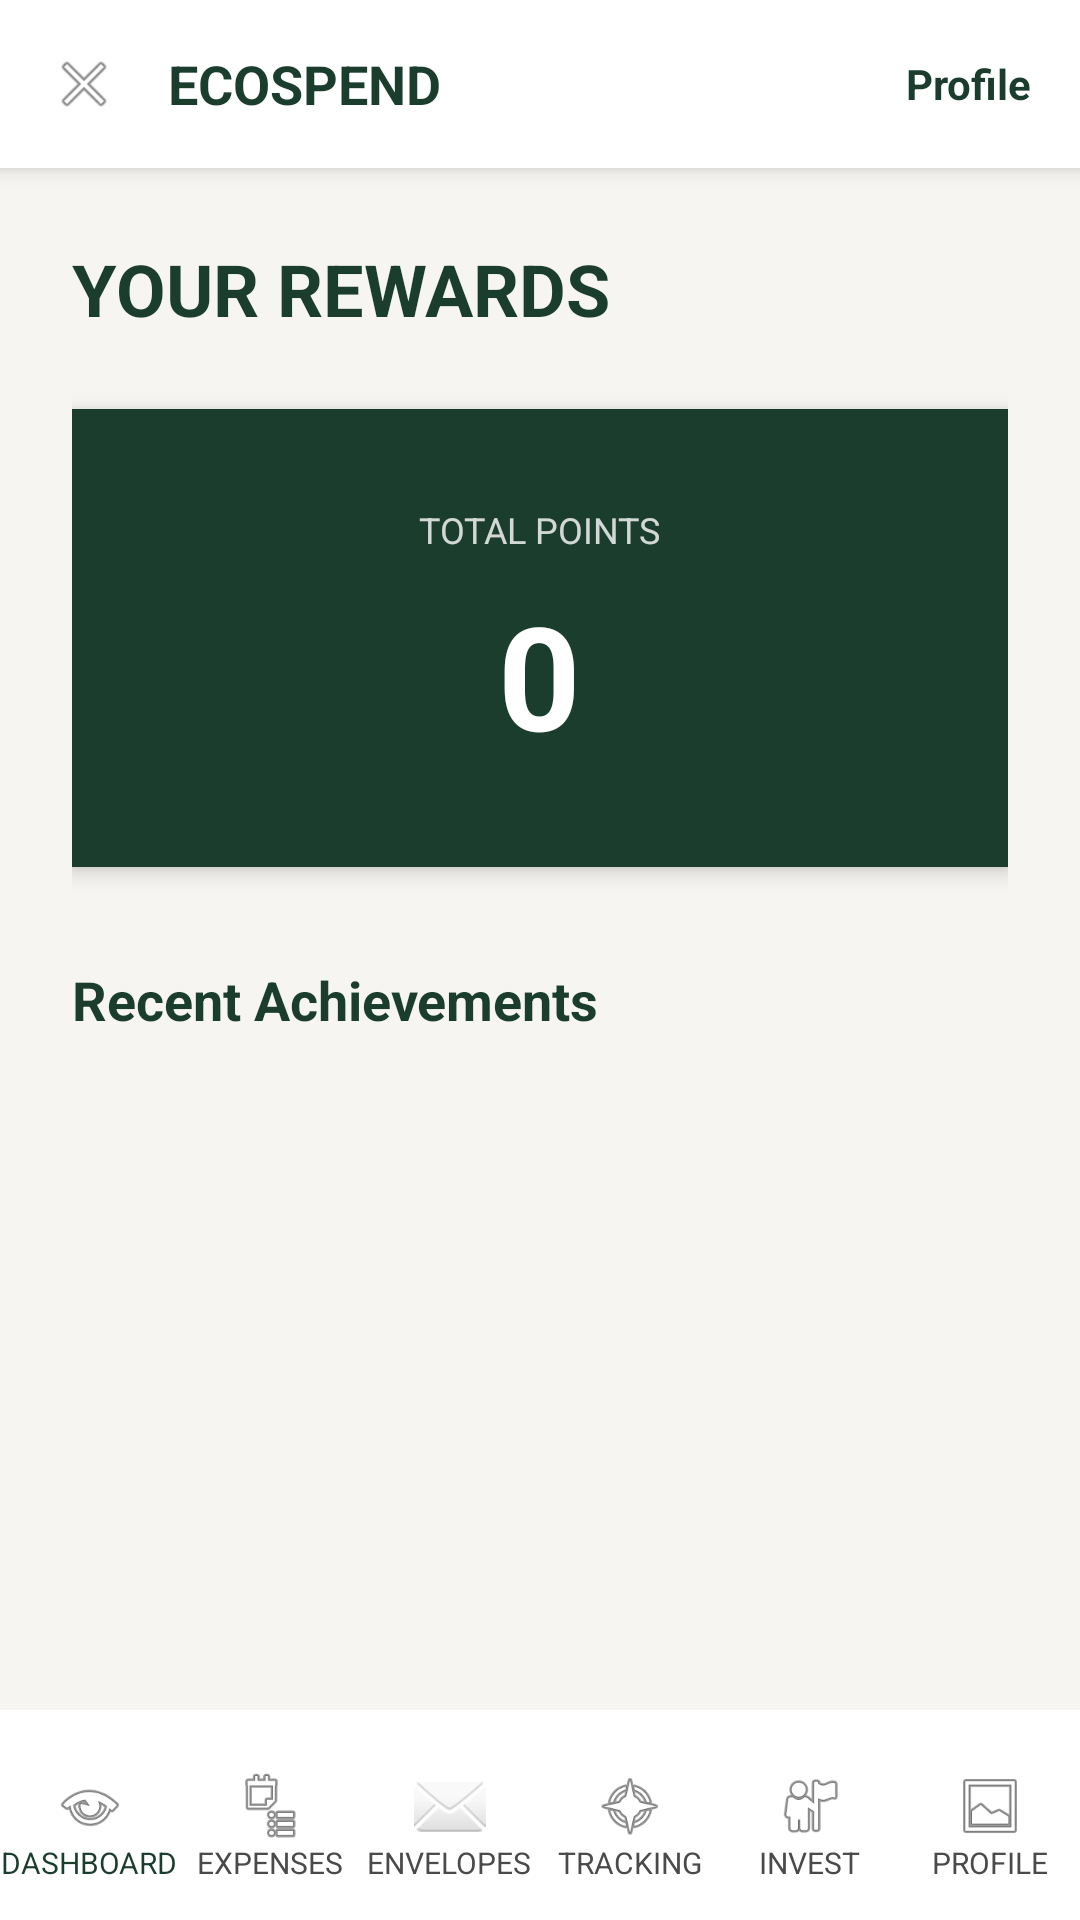

Icons on this 1080px×1920px Android screen, each with its box as bbox=(x1, y1, x2, y2):
agenda: bbox=(245, 1774, 296, 1838)
Back: bbox=(61, 61, 107, 107)
compass: bbox=(601, 1778, 658, 1835)
email: bbox=(414, 1783, 486, 1832)
gallery: bbox=(963, 1779, 1017, 1833)
view: bbox=(61, 1789, 119, 1826)
